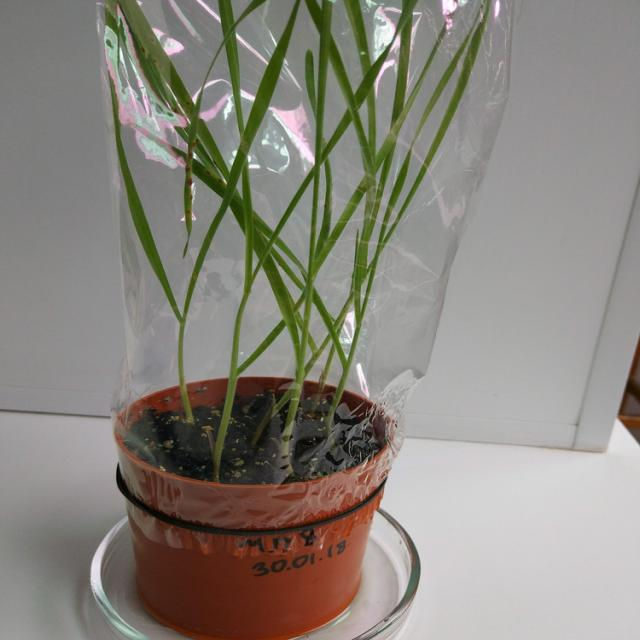wheat-stemrust: (252, 394, 274, 445)
